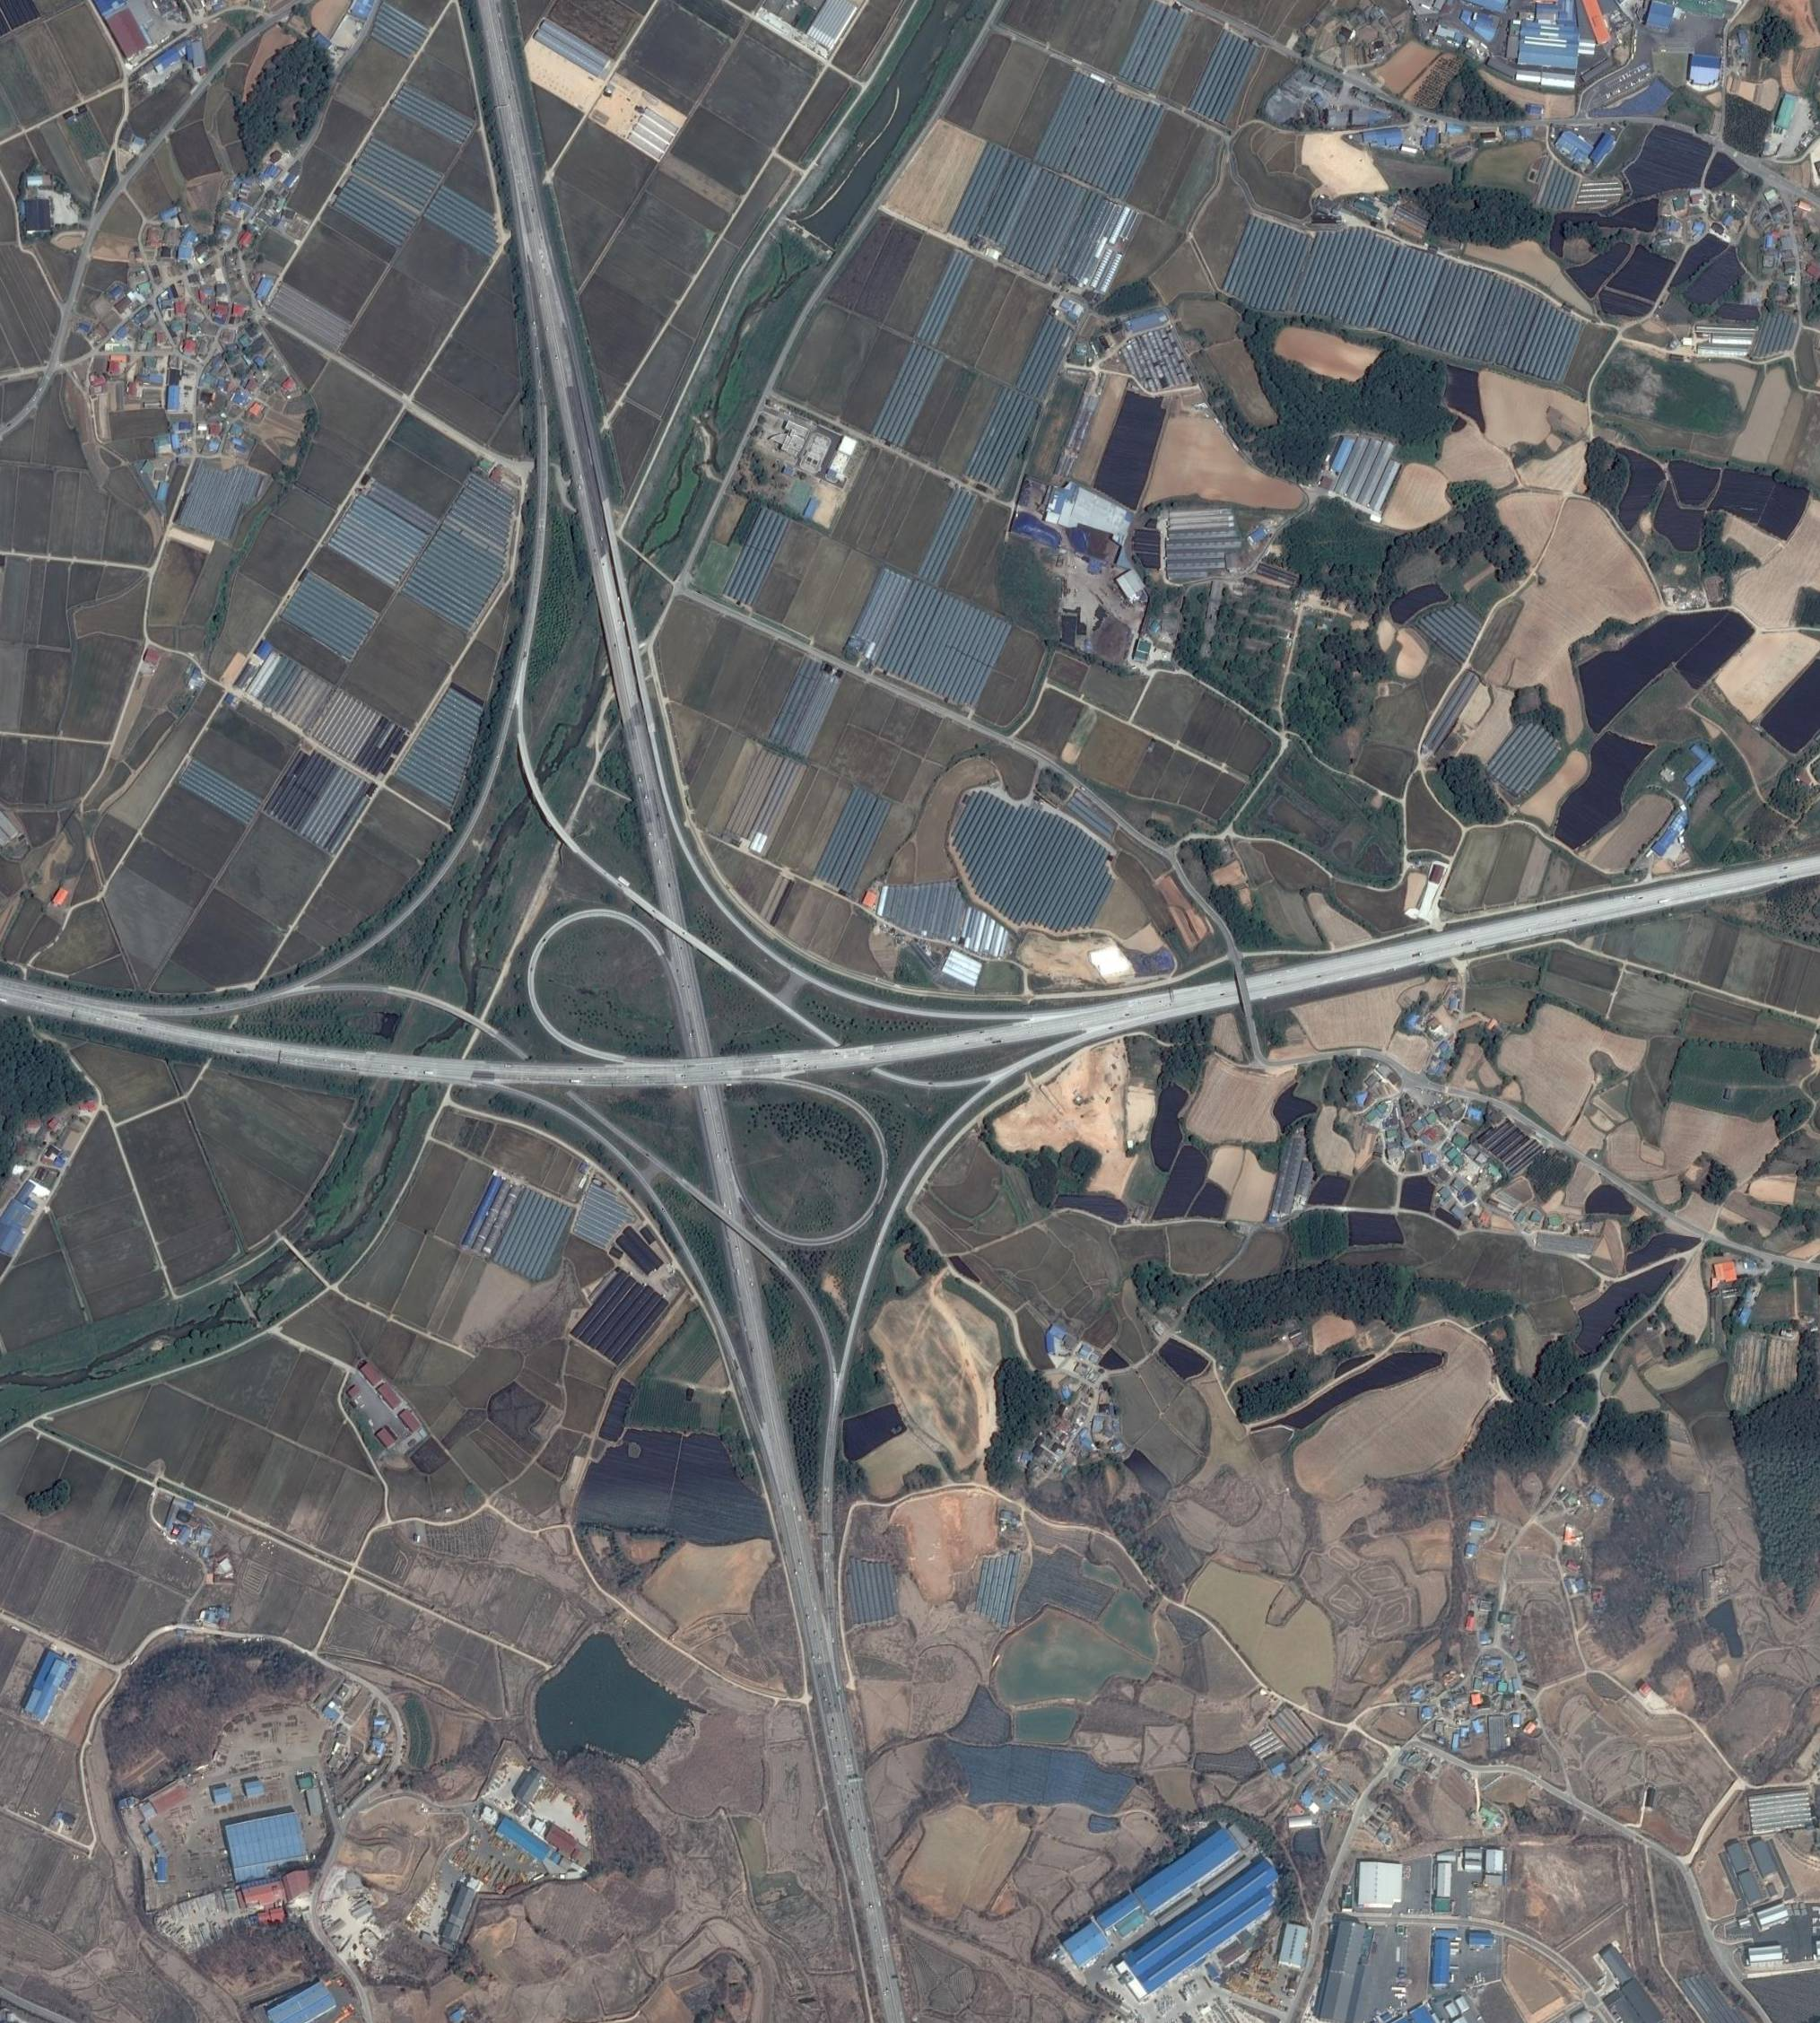bridge: (590, 545, 638, 652), (620, 533, 675, 584), (411, 988, 480, 1028), (522, 763, 560, 830), (372, 1053, 453, 1084)
